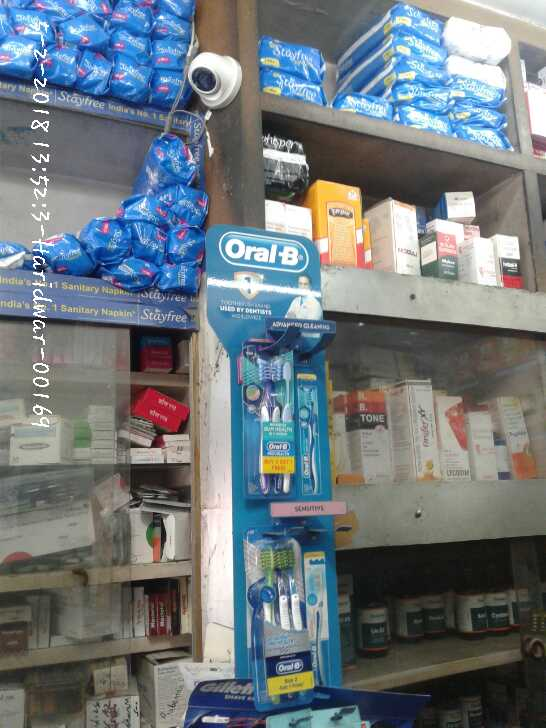oralb: (248, 541, 310, 706), (251, 346, 293, 495)
